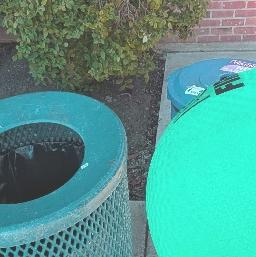algae: (144, 61, 256, 257)
